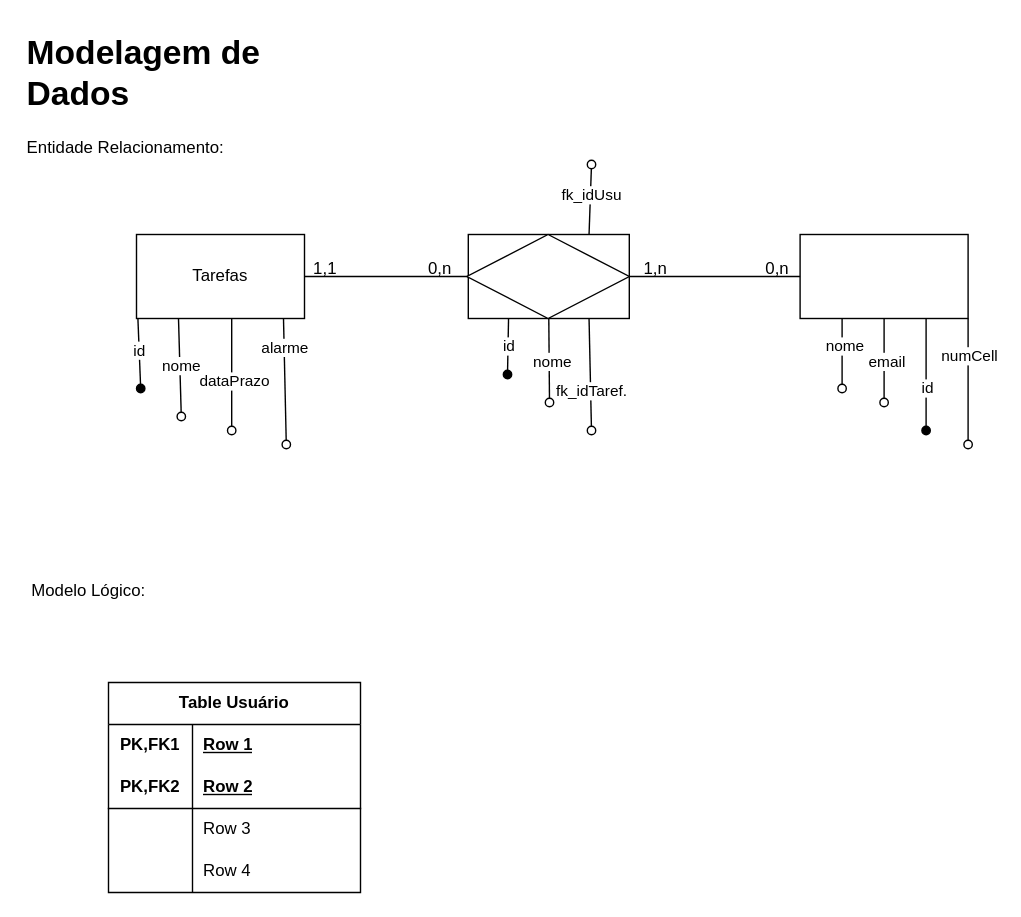
Some shapes in this 1021 by 917 pixel diagram are drawn without their labels. The shapes that lost their labels are listed below. From the top down, each one's centre as x and y in pixels, then its label:
At (547,275): "Projeto".
At (883,275): "Usuário".
